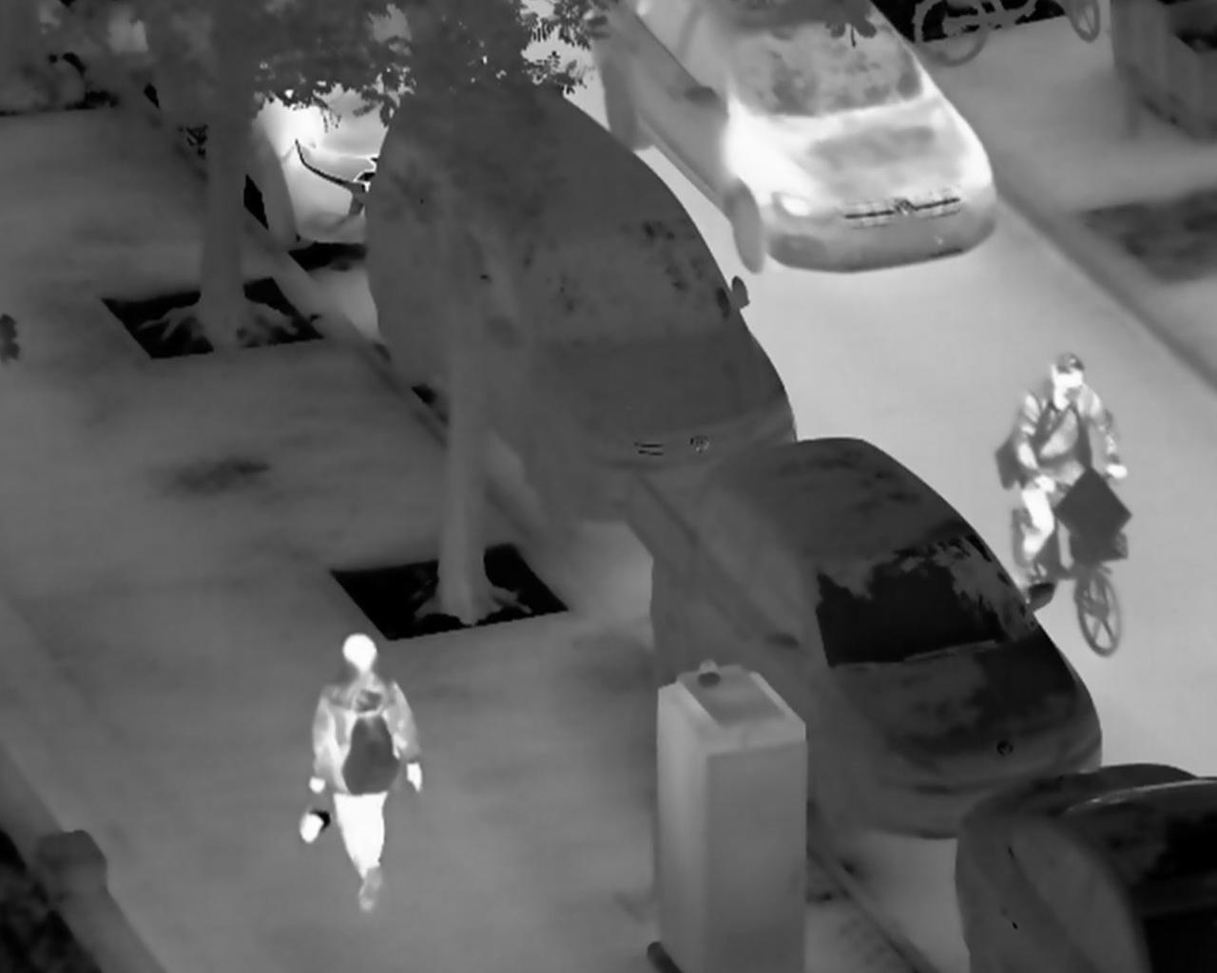person: (305, 633, 424, 914), (1010, 349, 1130, 572)
